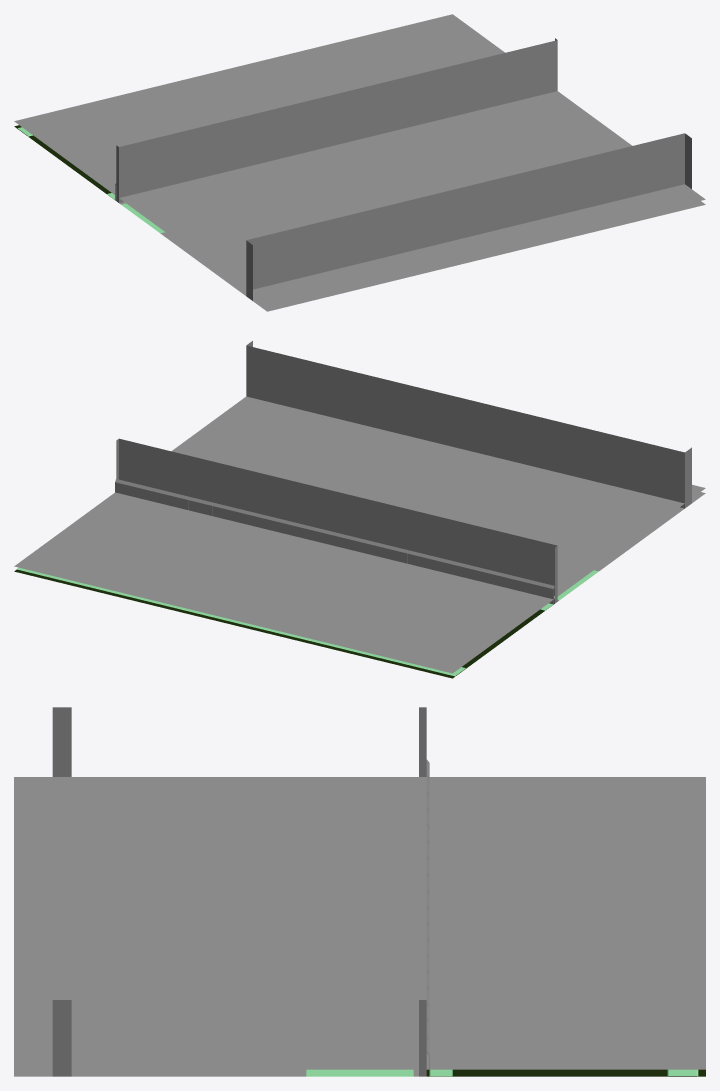
File: RT Pit Line V01 T01.FBX
3 renders of one model, top to bottom at view 1: azimuth 30°, elevation 25°; view 2: azimuth 150°, elevation 25°; view 3: azimuth 270°, elevation 25°, orthographic. The views are drawn at different scales.
Parts seen in each view (by area): view 1: RT Pit Line V01 T01 SNAP, RT Pit Line V01 T01 COLL I, RT Pit Line V01 T01 COLL II, RT Pit Line V01 T01; view 2: RT Pit Line V01 T01 SNAP, RT Pit Line V01 T01 COLL I, RT Pit Line V01 T01 COLL II, RT Pit Line V01 T01 Fence Shared I, RT Pit Line V01 T01, RT Pit Line V01 T01 SR I; view 3: RT Pit Line V01 T01 SNAP, RT Pit Line V01 T01, RT Pit Line V01 T01 COLL I, RT Pit Line V01 T01 RubW I, RT Pit Line V01 T01 COLL II, RT Pit Line V01 T01 Fence Shared I.
Part boxes in pixels (x1,y1,x2,y2): RT Pit Line V01 T01 SNAP: (14,14,705,306); RT Pit Line V01 T01 COLL I: (246,133,691,300); RT Pit Line V01 T01 COLL II: (116,38,557,202); RT Pit Line V01 T01: (14,125,705,311); RT Pit Line V01 T01 SNAP: (14,396,705,673); RT Pit Line V01 T01 COLL I: (246,341,691,508); RT Pit Line V01 T01 COLL II: (116,438,557,603); RT Pit Line V01 T01 Fence Shared I: (115,479,554,604); RT Pit Line V01 T01: (14,492,705,678); RT Pit Line V01 T01 SR I: (17,567,465,676); RT Pit Line V01 T01 SNAP: (14,777,705,1069); RT Pit Line V01 T01: (14,1069,705,1076); RT Pit Line V01 T01 COLL I: (52,707,71,1076); RT Pit Line V01 T01 RubW I: (419,777,426,999); RT Pit Line V01 T01 COLL II: (419,707,426,1076); RT Pit Line V01 T01 Fence Shared I: (426,760,429,1054).
Size of the model in its own units: 90 by 11 by 90.
